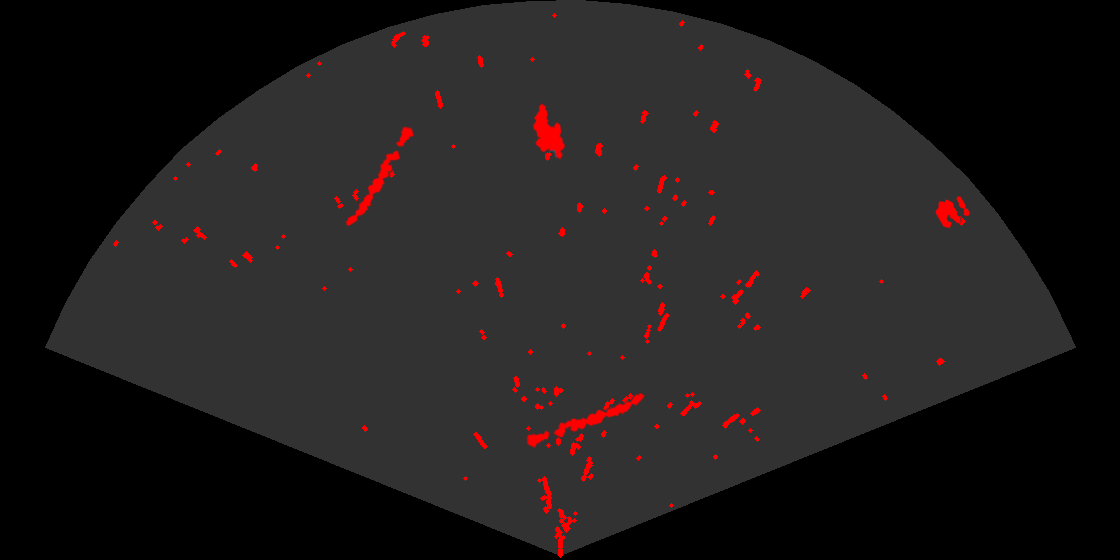AUV: (531, 101, 567, 161)
ball: (934, 195, 971, 230)
chain: (344, 125, 416, 228), (524, 391, 646, 450)
